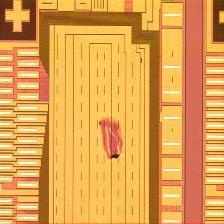PARTICLE: (97, 114, 128, 164)
